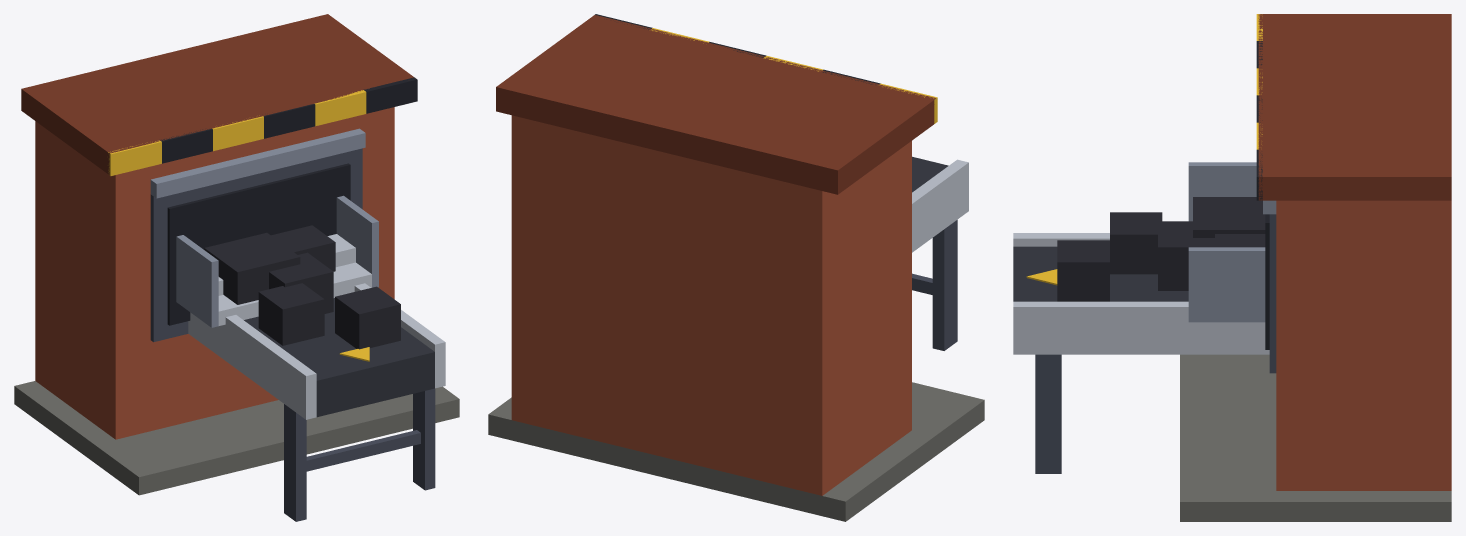
Rendered from coal-quay.glb.
3 views of the same model, side by side, from view 1: azimuth 30°, elevation 25°; view 2: azimuth 150°, elevation 25°; view 3: azimuth 270°, elevation 25° (orthographic). The views are drawn at different scales.
Parts seen in each view (by area): view 1: coal-quay; view 2: coal-quay; view 3: coal-quay.
Boxes of the visible parts, x1,y1,x2,y2 form: coal-quay: [14, 14, 459, 521]; coal-quay: [488, 14, 984, 521]; coal-quay: [1013, 14, 1451, 521].
Size of the model in its own units: 0.92 by 0.86 by 1.
Materials: 1 (1 with a texture image).
